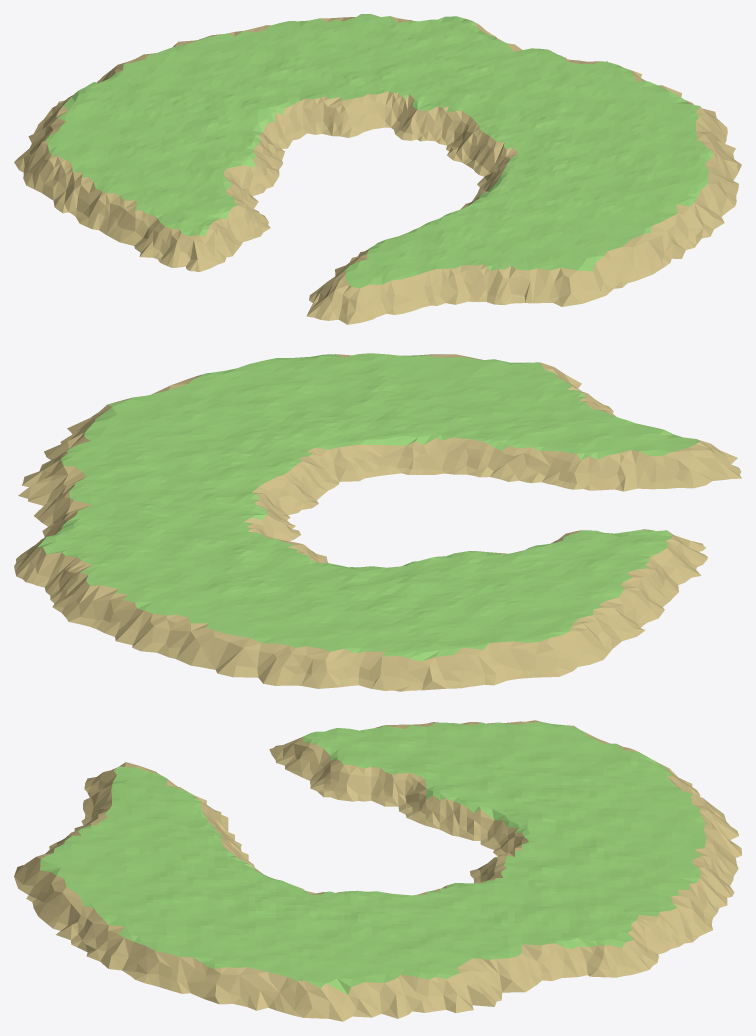
The model's file is CPT_Island_H_a_06_LOD.fbx.
3 renders of one model, top to bottom at view 1: azimuth 30°, elevation 25°; view 2: azimuth 150°, elevation 25°; view 3: azimuth 270°, elevation 25°, orthographic. The views are drawn at different scales.
Visible parts, largest first — view 1: CPT_Island_H_a_06_LOD0; view 2: CPT_Island_H_a_06_LOD0; view 3: CPT_Island_H_a_06_LOD0.
Part boxes in pixels (x1,y1,x2,y2): CPT_Island_H_a_06_LOD0: (14,14,741,324); CPT_Island_H_a_06_LOD0: (14,353,741,691); CPT_Island_H_a_06_LOD0: (14,720,741,1021).
Size of what is drawn, in the model's own units: 39823 by 1566 by 41985.
